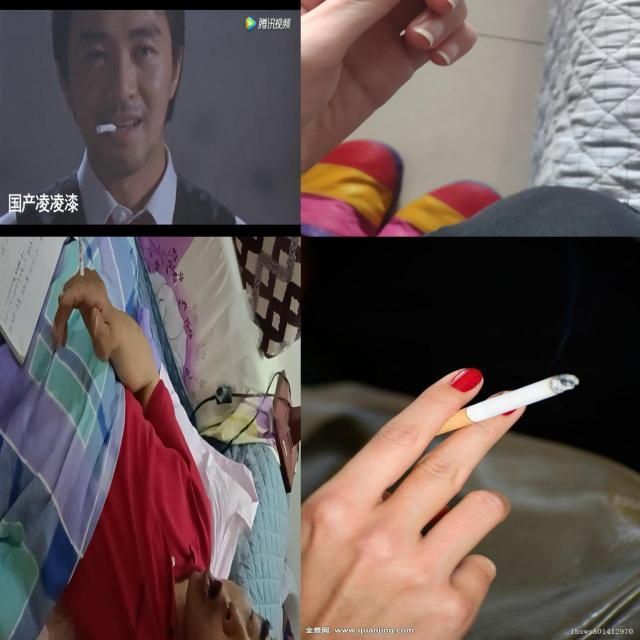smoke: (420, 372, 580, 437), (78, 236, 85, 312), (95, 124, 118, 135)
